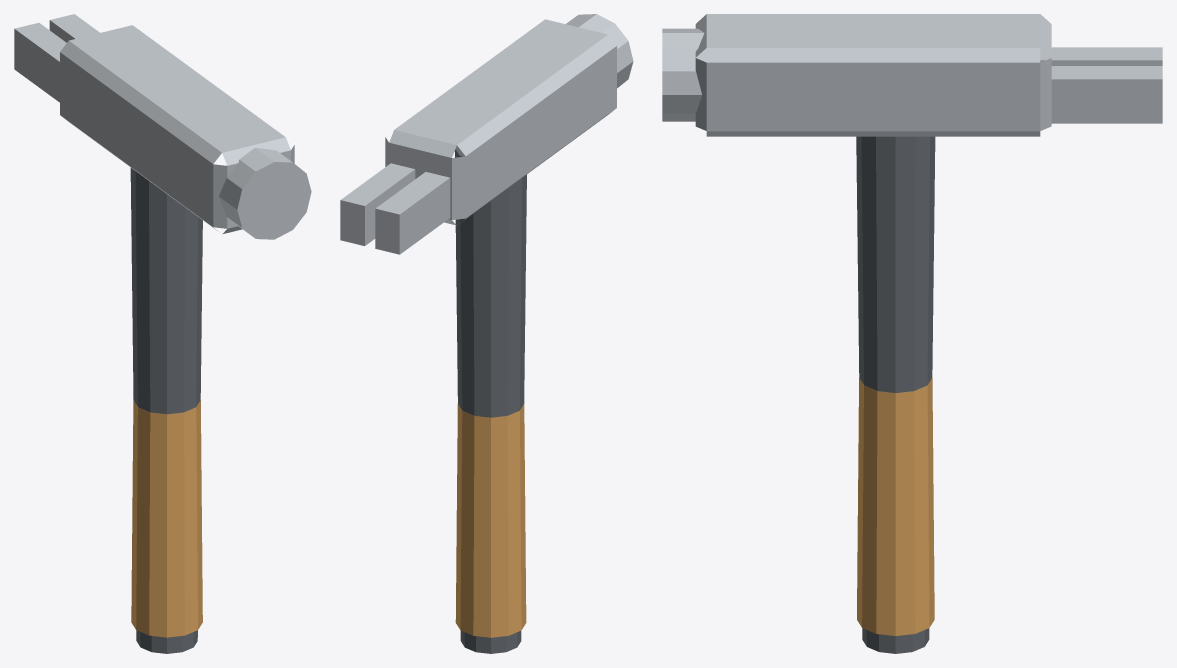
File: hammer_claw.glb
3 renders of one model, left to right at view 1: azimuth 30°, elevation 25°; view 2: azimuth 150°, elevation 25°; view 3: azimuth 270°, elevation 25°, orthographic. The views are drawn at different scales.
Visible parts, largest first — view 1: MetalBody, ErgonomicGrip, HousingAccent; view 2: MetalBody, ErgonomicGrip, HousingAccent; view 3: MetalBody, ErgonomicGrip, HousingAccent.
Part boxes in pixels (left/top/right/bottom): MetalBody: left=14, top=14, right=311, bottom=239; ErgonomicGrip: left=130, top=168, right=202, bottom=653; HousingAccent: left=131, top=400, right=202, bottom=637; MetalBody: left=340, top=14, right=633, bottom=254; ErgonomicGrip: left=454, top=145, right=526, bottom=653; HousingAccent: left=455, top=404, right=526, bottom=637; MetalBody: left=662, top=14, right=1162, bottom=136; ErgonomicGrip: left=856, top=136, right=935, bottom=653; HousingAccent: left=857, top=378, right=934, bottom=635.
Bounding box in the file's own units: 0.092 × 0.604 × 0.45.
